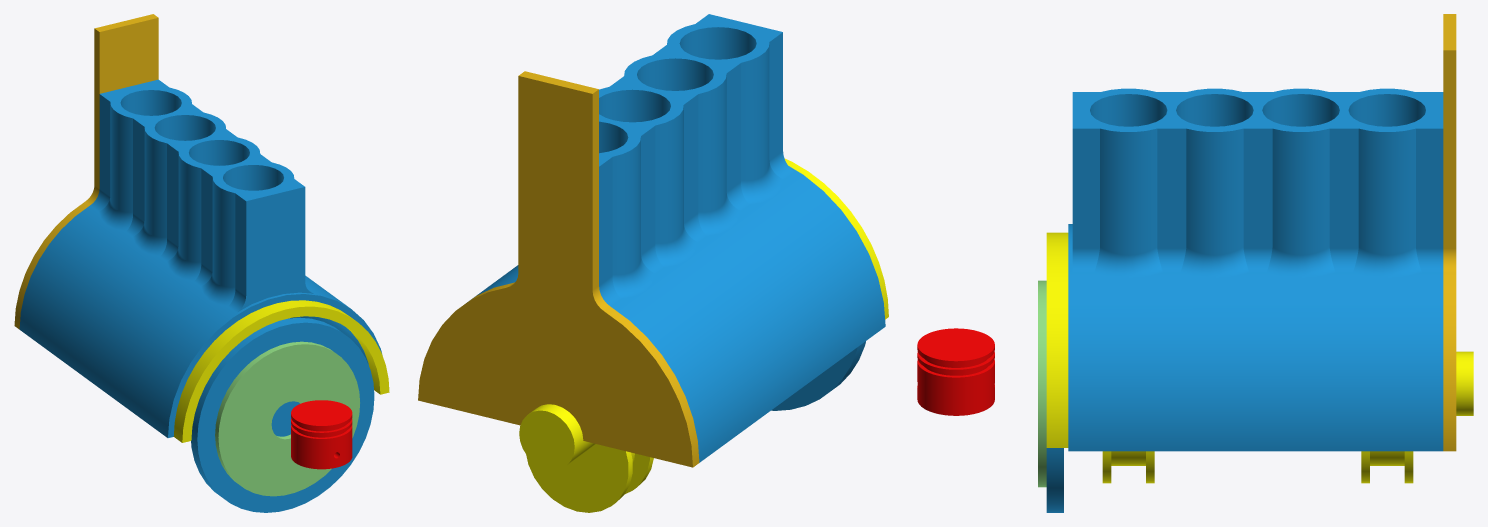
Rendered from pistonplus.glb.
3 views of the same model, side by side, from view 1: azimuth 30°, elevation 25°; view 2: azimuth 150°, elevation 25°; view 3: azimuth 270°, elevation 25° (orthographic). The views are drawn at different scales.
Parts seen in each view (by area): view 1: Body75, Body71, Body70, Body93, Body72, Body98; view 2: Body75, Body93, Body45, Body70, Body72; view 3: Body75, Body98, Body93, Body72, Body45, Body71, Body70.
Part boxes in pixels (left/top/right/bottom): Body75: left=19, top=79, right=381, bottom=437; Body71: left=215, top=341, right=359, bottom=496; Body70: left=191, top=317, right=374, bottom=512; Body93: left=14, top=14, right=158, bottom=329; Body72: left=173, top=300, right=389, bottom=442; Body98: left=291, top=400, right=352, bottom=469; Body75: left=467, top=14, right=885, bottom=462; Body93: left=418, top=71, right=699, bottom=467; Body45: left=519, top=404, right=653, bottom=512; Body70: left=771, top=341, right=865, bottom=410; Body72: left=784, top=158, right=888, bottom=319; Body75: left=1068, top=88, right=1443, bottom=451; Body98: left=917, top=328, right=994, bottom=415; Body93: left=1443, top=14, right=1456, bottom=451; Body72: left=1046, top=232, right=1068, bottom=447; Body45: left=1102, top=351, right=1473, bottom=483; Body71: left=1038, top=280, right=1046, bottom=487; Body70: left=1046, top=448, right=1063, bottom=512.
Size of the model in its own units: 0.3709 by 0.5996 by 0.645.
